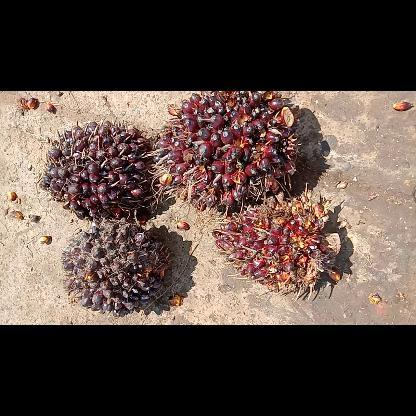Kurang masak: (148, 91, 300, 217), (212, 183, 340, 299), (40, 118, 152, 222), (61, 217, 171, 315)
